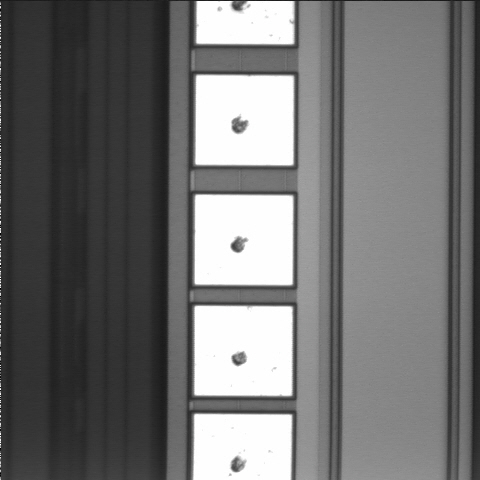pad: (195, 75, 294, 165), (195, 195, 293, 285), (194, 306, 292, 396)
